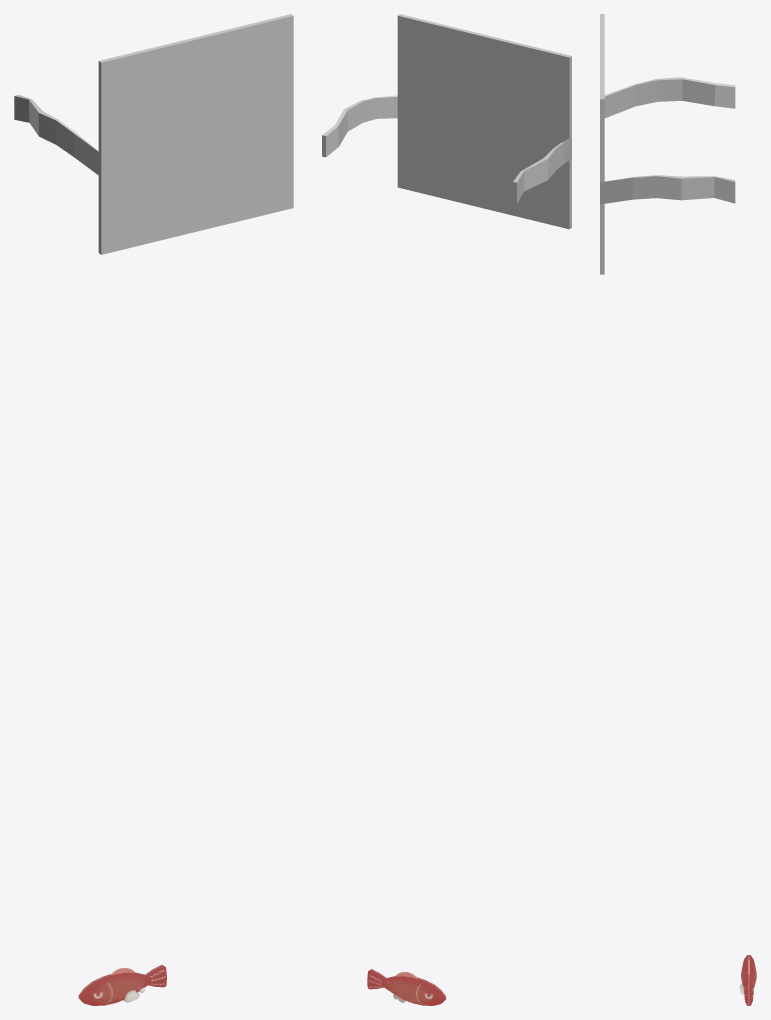
File: mask.fbx
3 views of the same model, side by side, from view 1: azimuth 30°, elevation 25°; view 2: azimuth 150°, elevation 25°; view 3: azimuth 270°, elevation 25° (orthographic). The views are drawn at different scales.
Parts seen in each view (by area): view 1: Cube, Item_FishToy; view 2: Cube, Item_FishToy; view 3: Cube, Item_FishToy.
Boxes of the visible parts, <box> form: Cube: <box>14,14,293,254</box>; Item_FishToy: <box>78,965,166,1005</box>; Cube: <box>322,14,571,229</box>; Item_FishToy: <box>367,969,446,1005</box>; Cube: <box>600,14,735,274</box>; Item_FishToy: <box>739,955,756,1005</box>.
Bounding box in the file's own units: 17.8 × 76.44 × 11.62.
